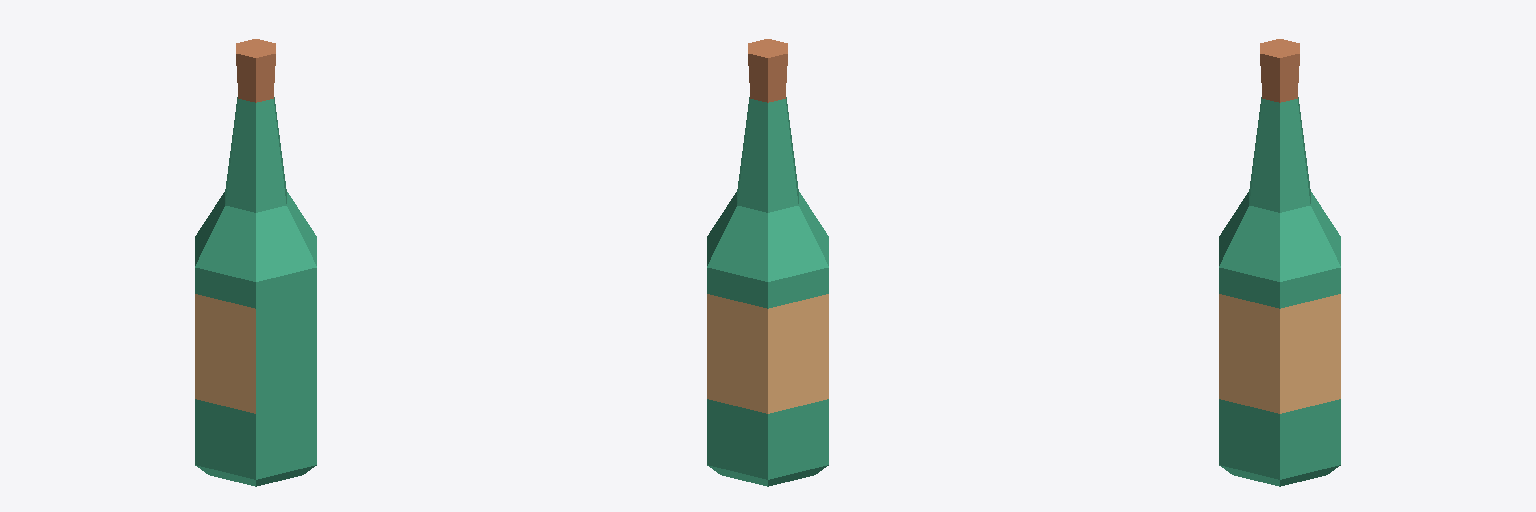
Rendered from wineWhite.obj.
3 views of the same model, side by side, from view 1: azimuth 30°, elevation 25°; view 2: azimuth 150°, elevation 25°; view 3: azimuth 270°, elevation 25° (orthographic).
Parts seen in each view (by area): view 1: wineWhite; view 2: wineWhite; view 3: wineWhite.
Boxes of the visible parts, x1,y1,x2,y2 form: wineWhite: [195, 39, 316, 486]; wineWhite: [707, 39, 828, 486]; wineWhite: [1219, 39, 1340, 486].
Bounding box in the file's own units: 0.2028 × 0.6556 × 0.1756.